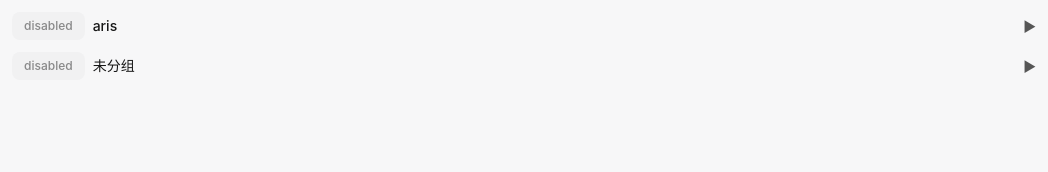
SkillToggleGroup grouping › expands and collapses groups via chevron
Expected: the text "Skill 1" is not shown
Note: Click chevron to expand
Click the button with test id "chevron-aris".
click(1030, 26)  # box x1=1023 y1=16 x2=1036 y2=36
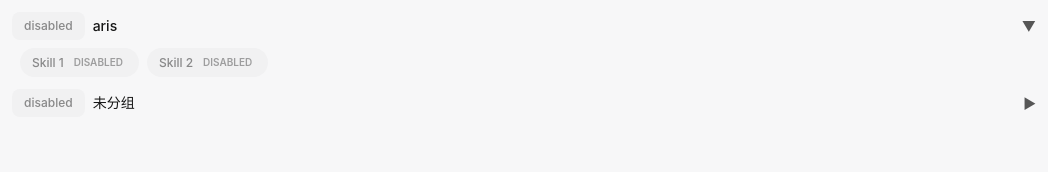
Expected: the button "Skill 1 disabled" is shown, x1=20 y1=48 x2=139 y2=77
Expected: the button "Skill 2 disabled" is shown, x1=147 y1=48 x2=268 y2=77
